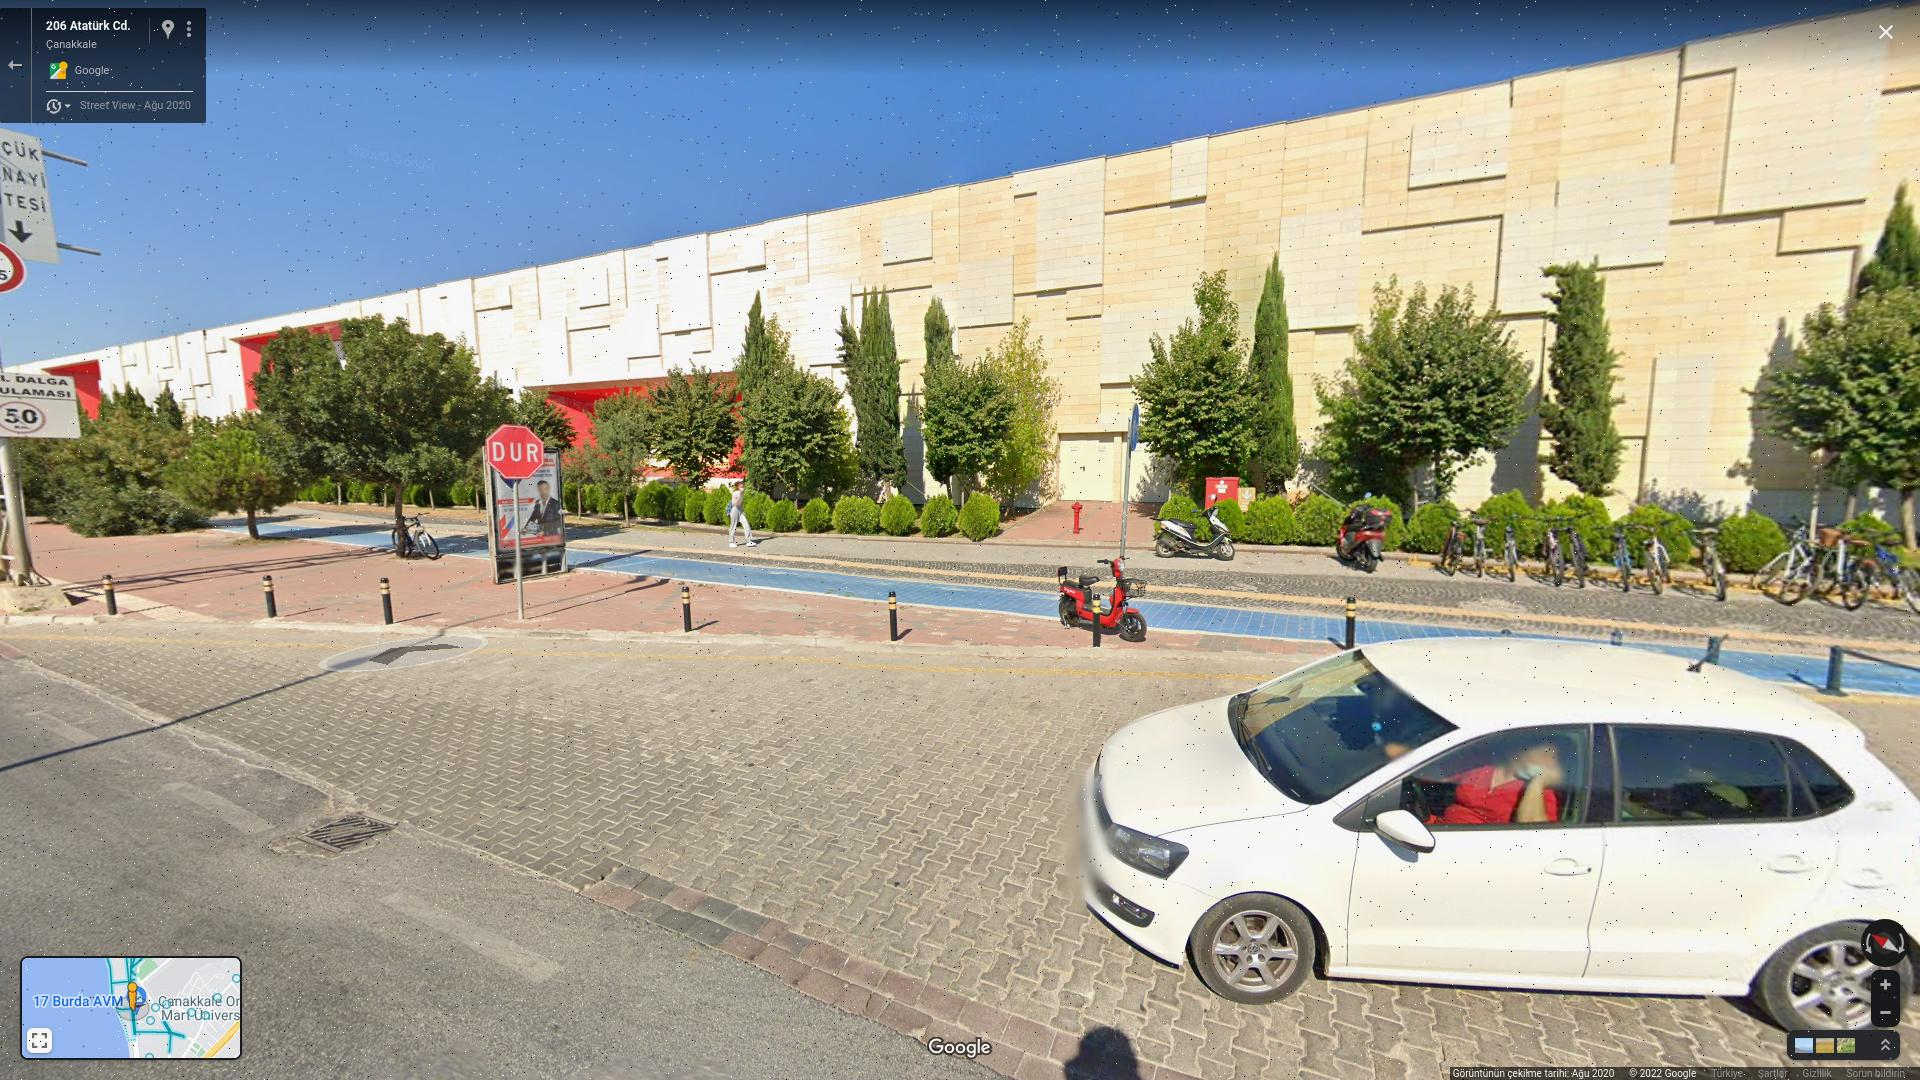stop: (491, 427, 545, 480)
